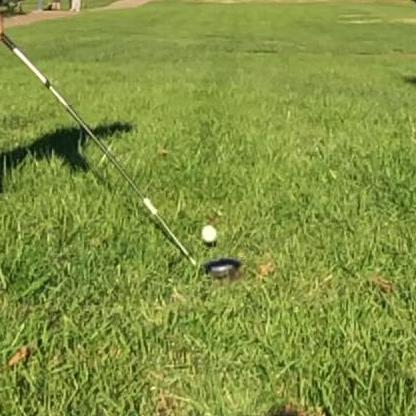golfball: (198, 221, 217, 242)
